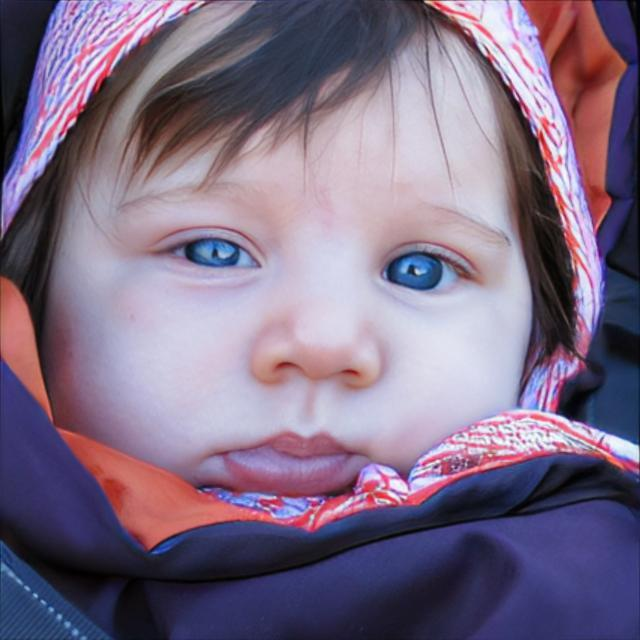sad: (46, 0, 535, 504)
